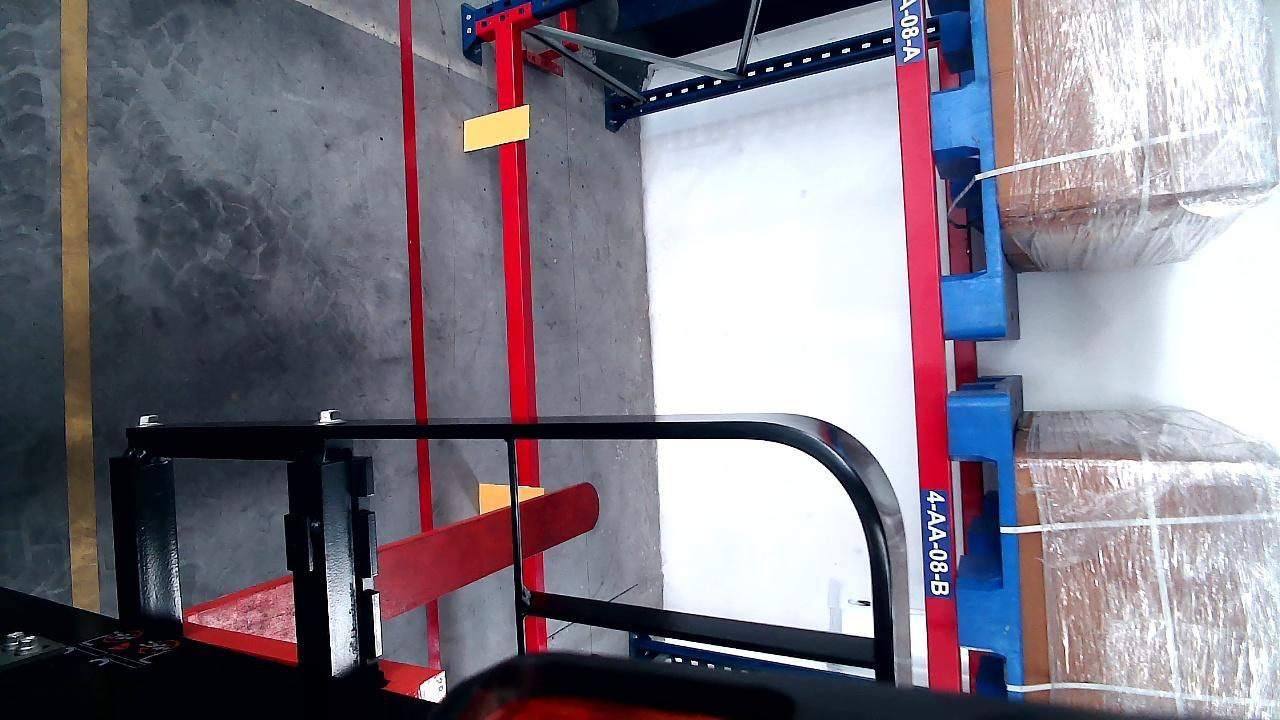red_line: (398, 0, 435, 532)
